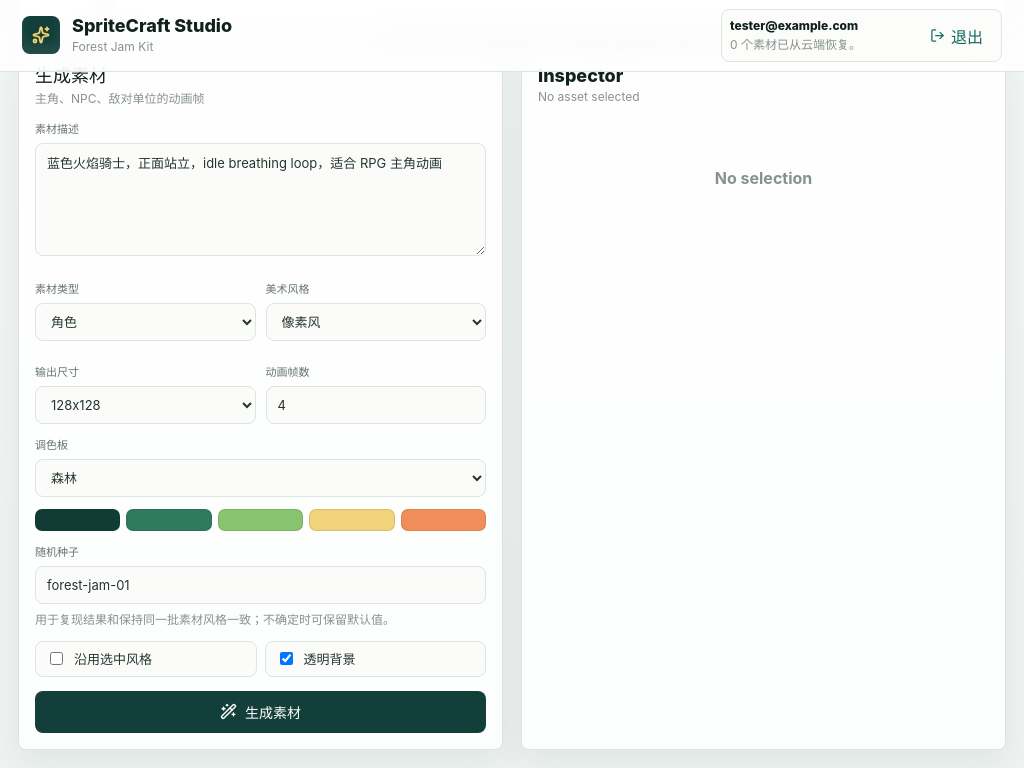
Scenario: guest generation workflow › preserves generated assets when cloud persistence fails
(page scrolled)
Step 1. Click the button "生成素材" → click(260, 712), box [35,691,486,733]
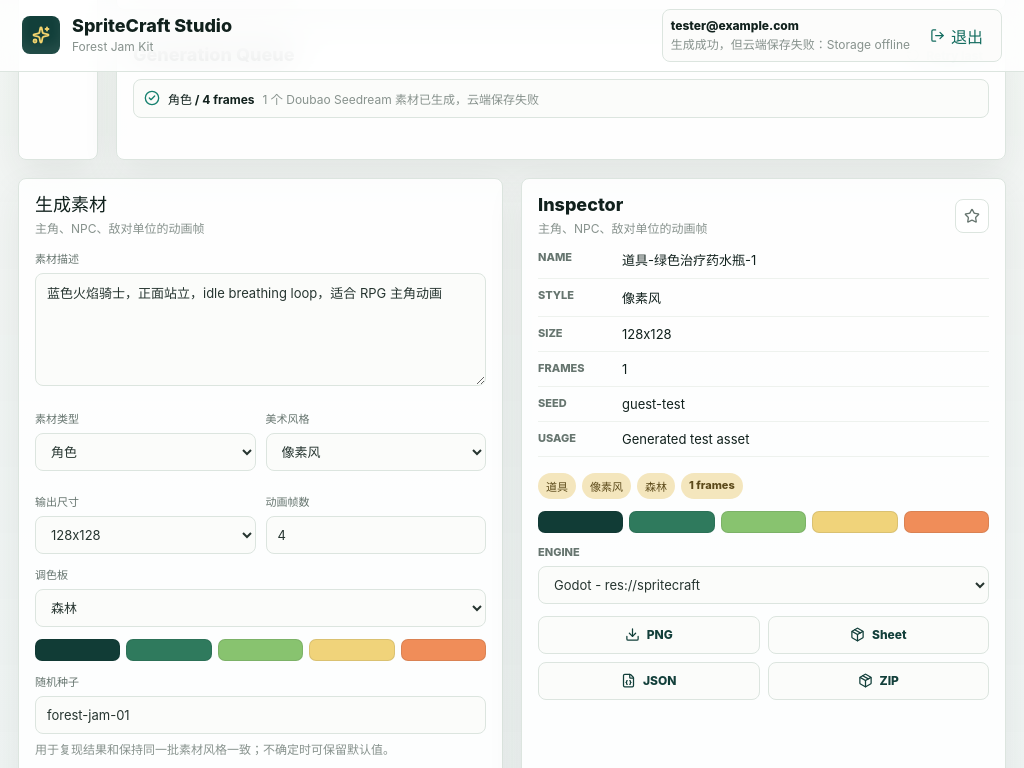
Check: the text "生成成功，但云端保存失败：Storage offline" is shown, box [671,37,910,52]
